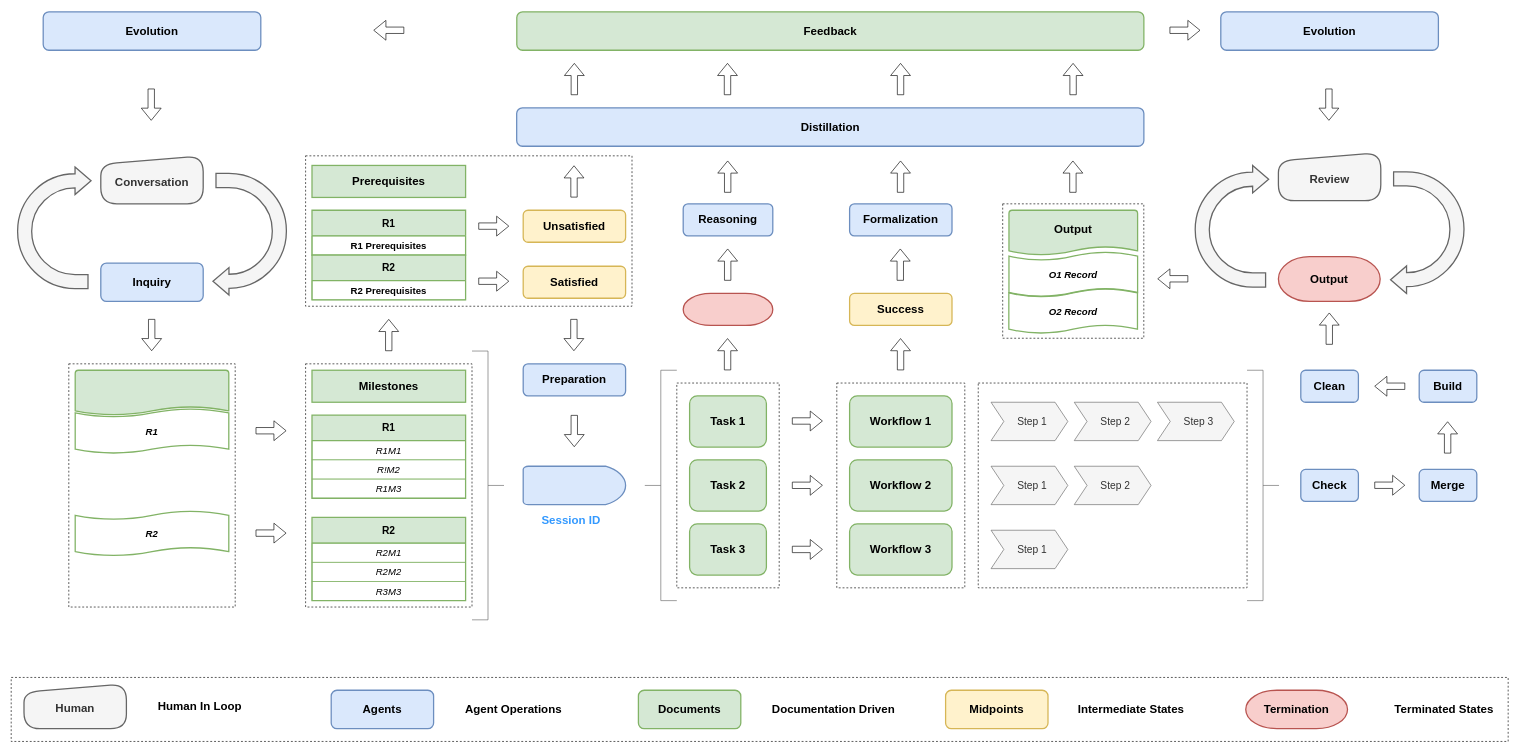
Image size: 1519x753. Some labels were removed from this diagram. The shapes that lost their labels are listed below. From the top down, each one's centre as x and y in pixels, then its label:
At point 727,309: "Failure".
At point 151,392: "Requirements".
At point 574,485: "Dispatch".
